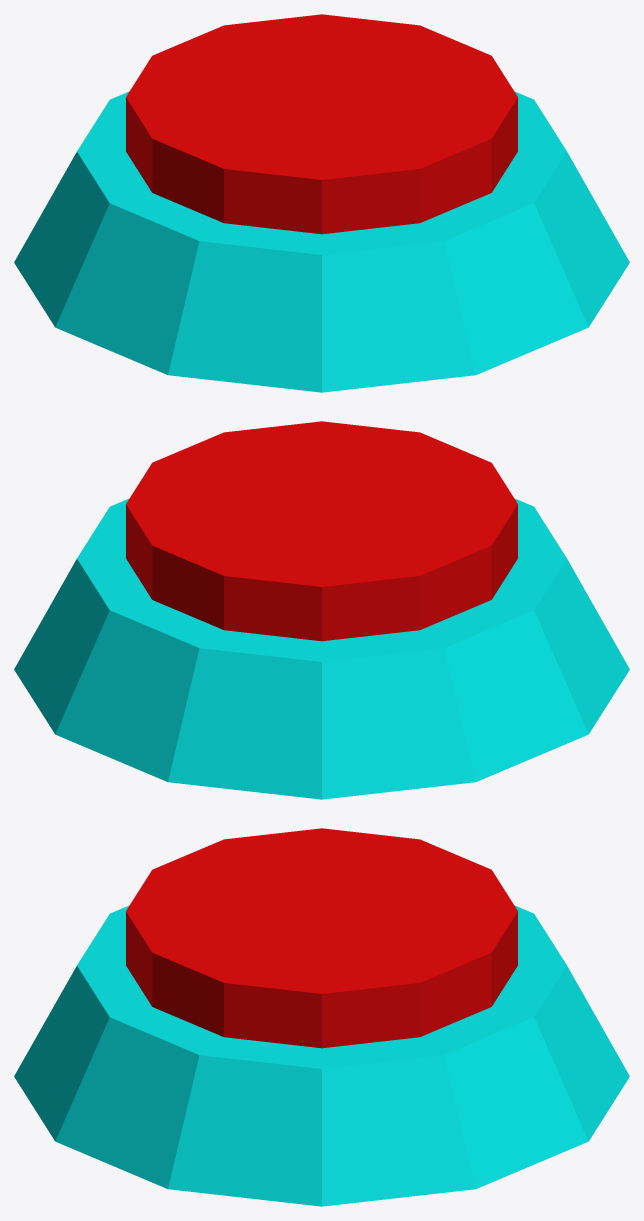
Rendered from Button.fbx.
3 renders of one model, top to bottom at view 1: azimuth 30°, elevation 25°; view 2: azimuth 150°, elevation 25°; view 3: azimuth 270°, elevation 25°, orthographic.
Parts seen in each view (by area): view 1: pCylinder1, pCylinder2; view 2: pCylinder1, pCylinder2; view 3: pCylinder1, pCylinder2.
Part boxes in pixels (x1,y1,x2,y2): pCylinder1: (14, 91, 629, 392); pCylinder2: (126, 14, 517, 234); pCylinder1: (14, 498, 629, 799); pCylinder2: (126, 421, 517, 641); pCylinder1: (14, 905, 629, 1206); pCylinder2: (126, 828, 517, 1048).
Bounding box in the file's own units: 2.51 × 0.7445 × 2.51.
